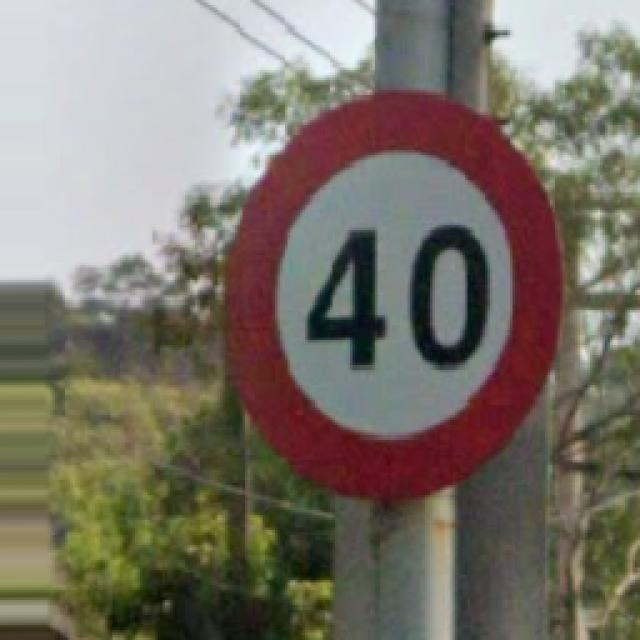Speed Limit -40-: (228, 90, 560, 495)
